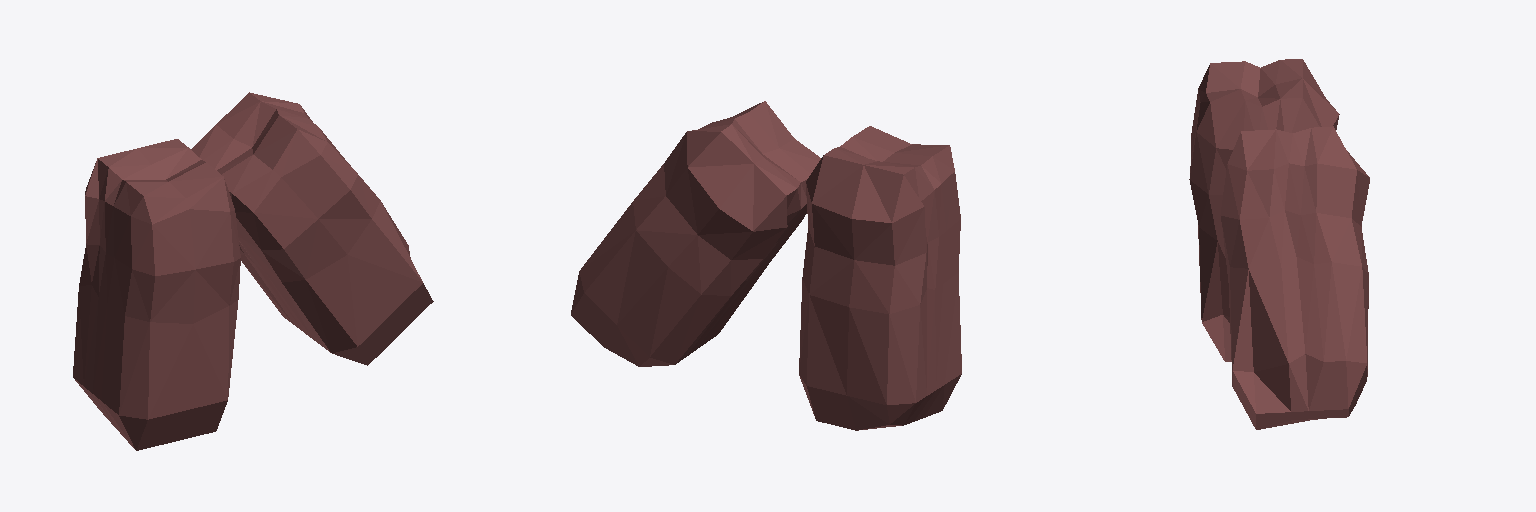
The model's file is lowpolypillar2.obj.
The picture shows the model from 3 angles: view 1: azimuth 30°, elevation 25°; view 2: azimuth 150°, elevation 25°; view 3: azimuth 270°, elevation 25°; orthographic projection.
Parts seen in each view (by area): view 1: Cube, Cube.001_Cube.002; view 2: Cube, Cube.001_Cube.002; view 3: Cube.001_Cube.002, Cube.
Boxes of the visible parts, <box> form: Cube: <box>73,139,240,450</box>; Cube.001_Cube.002: <box>191,92,433,365</box>; Cube: <box>799,126,961,430</box>; Cube.001_Cube.002: <box>571,101,820,366</box>; Cube.001_Cube.002: <box>1220,126,1369,429</box>; Cube: <box>1189,59,1339,361</box>.
Size of the model in its own units: 5.66 by 4.55 by 2.68.